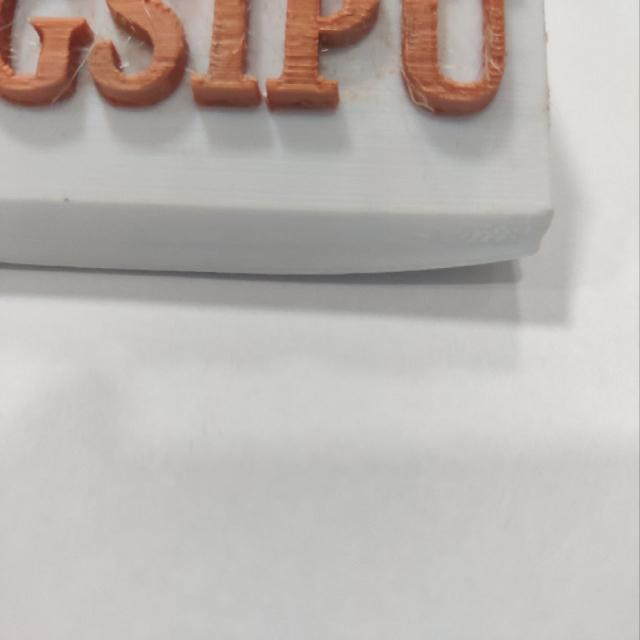warping: (414, 233, 539, 314)
